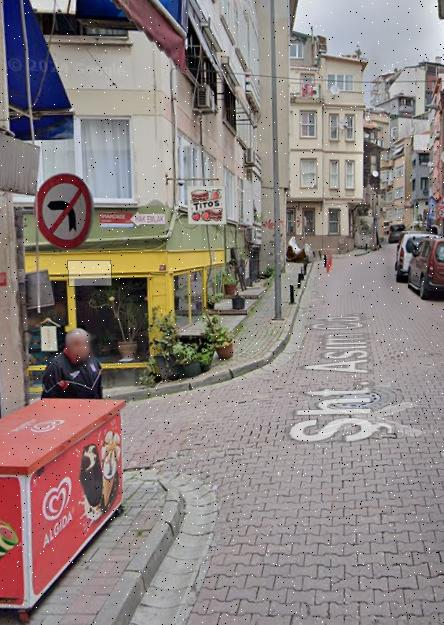leftturnsareforbidden: (36, 175, 92, 245)
